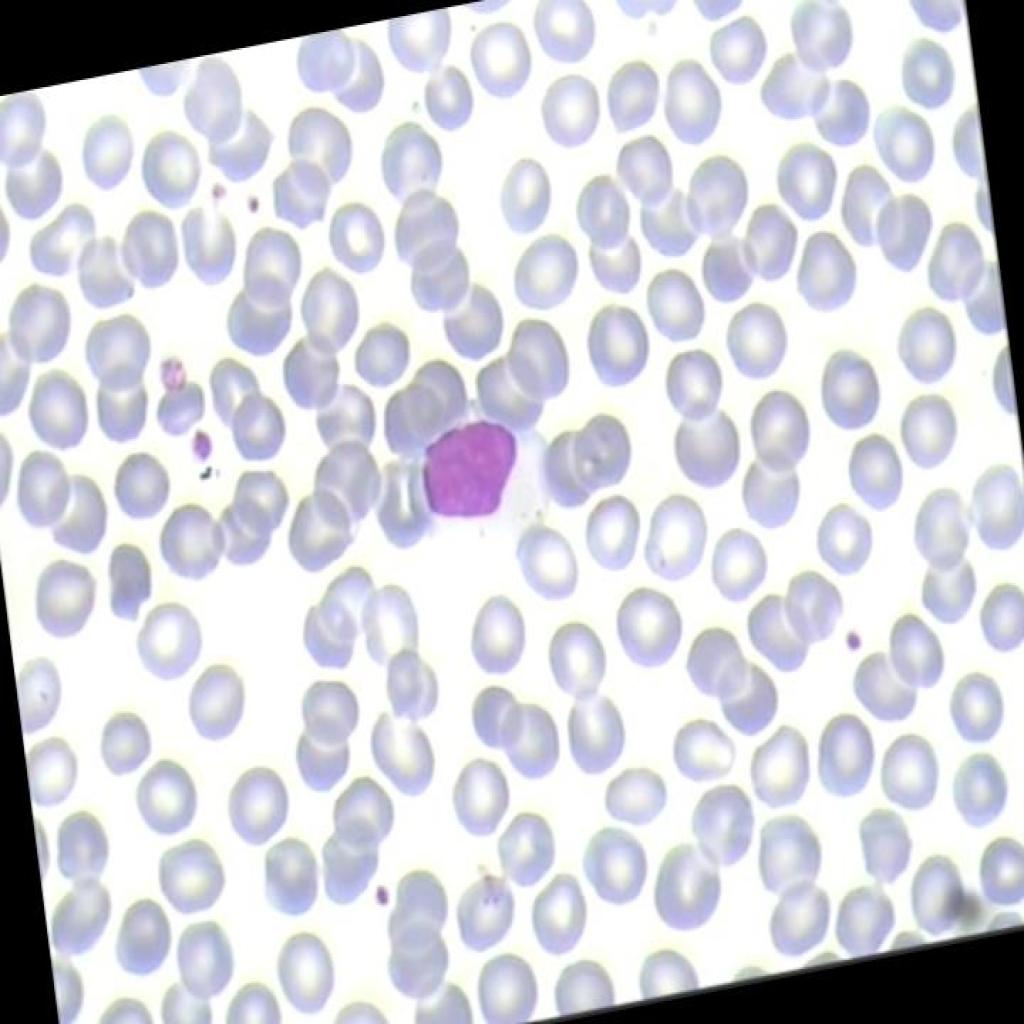Limfosit: (384, 396, 538, 566)
Platelet: (179, 420, 229, 478), (236, 182, 273, 230), (196, 158, 229, 210), (150, 352, 190, 393), (838, 617, 870, 658), (361, 873, 390, 917)
